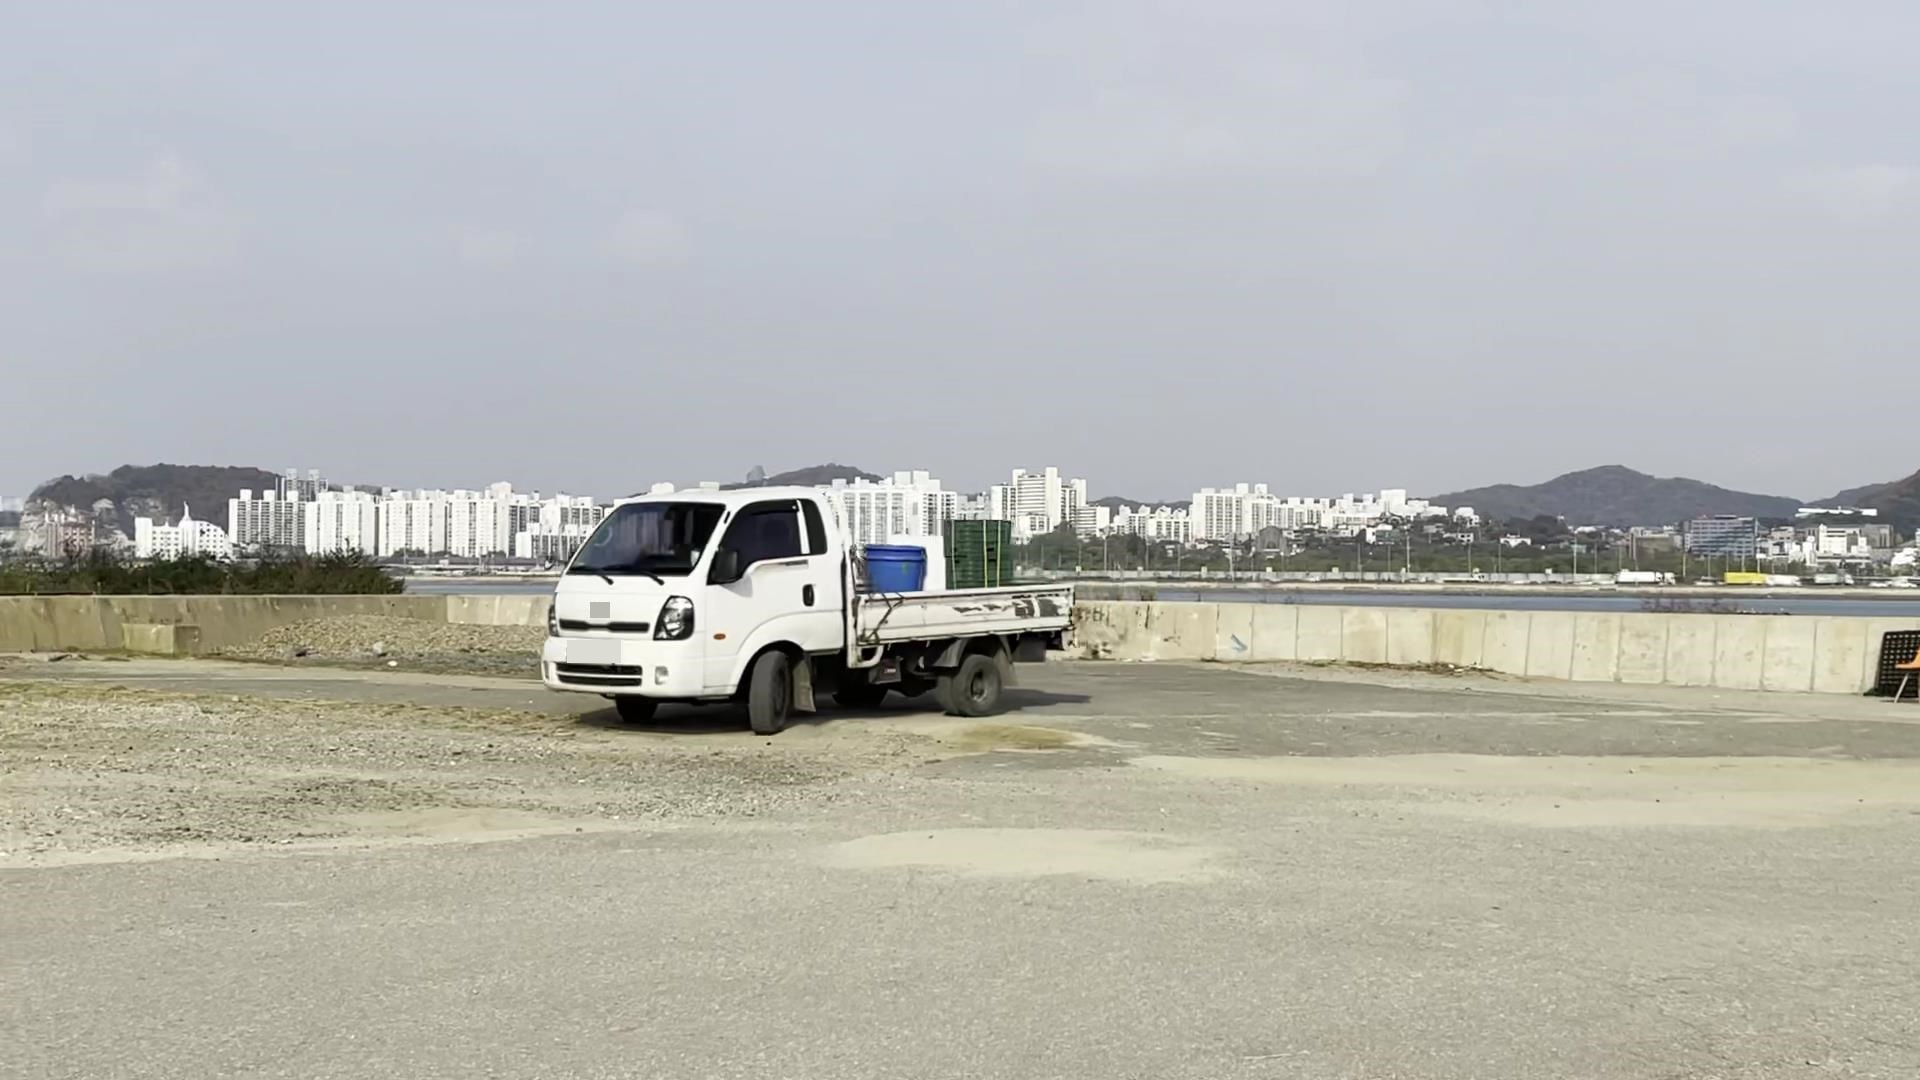불법차량: (540, 485, 1077, 735)
